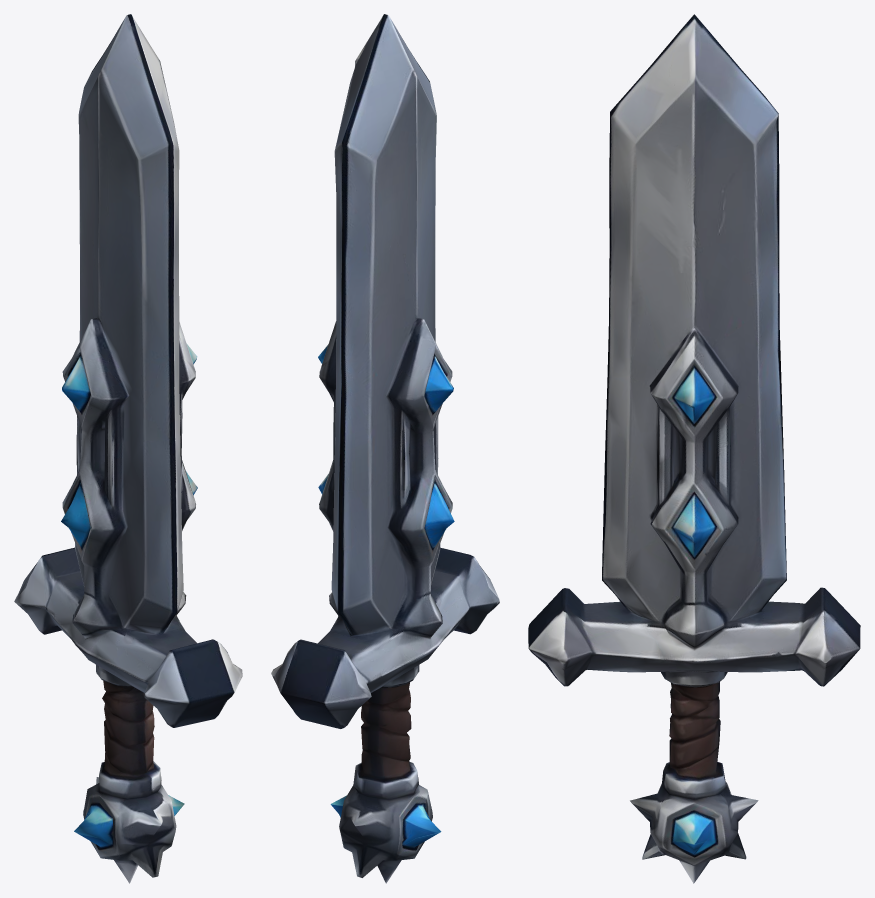
The model's file is gear_weapon_e_1.glb.
3 views of the same model, side by side, from view 1: azimuth 30°, elevation 25°; view 2: azimuth 150°, elevation 25°; view 3: azimuth 270°, elevation 25° (orthographic).
Parts seen in each view (by area): view 1: Weapon; view 2: Weapon; view 3: Weapon.
Part boxes in pixels (x1,y1,x2,y2): Weapon: (14,14,242,883); Weapon: (271,14,499,883); Weapon: (528,14,860,883).
Size of the model in its own units: 0.1618 by 0.9828 by 0.3408.
Materials: 1 (1 with a texture image).
